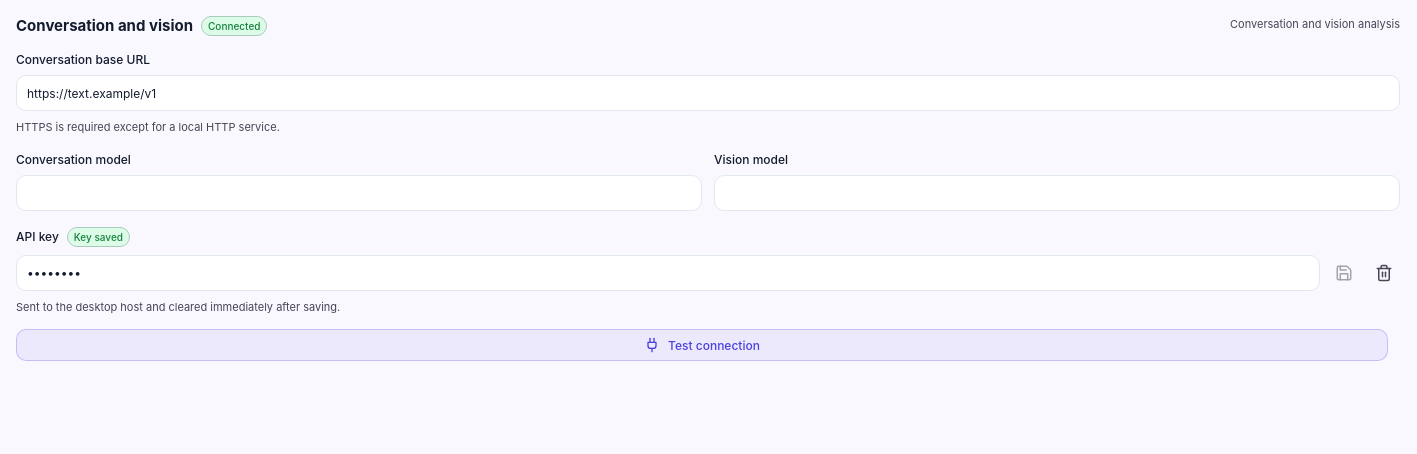
explains when the conversation test was blocked locally by a missing key
Click the button "Test connection": (702, 345) [16,329,1388,361]
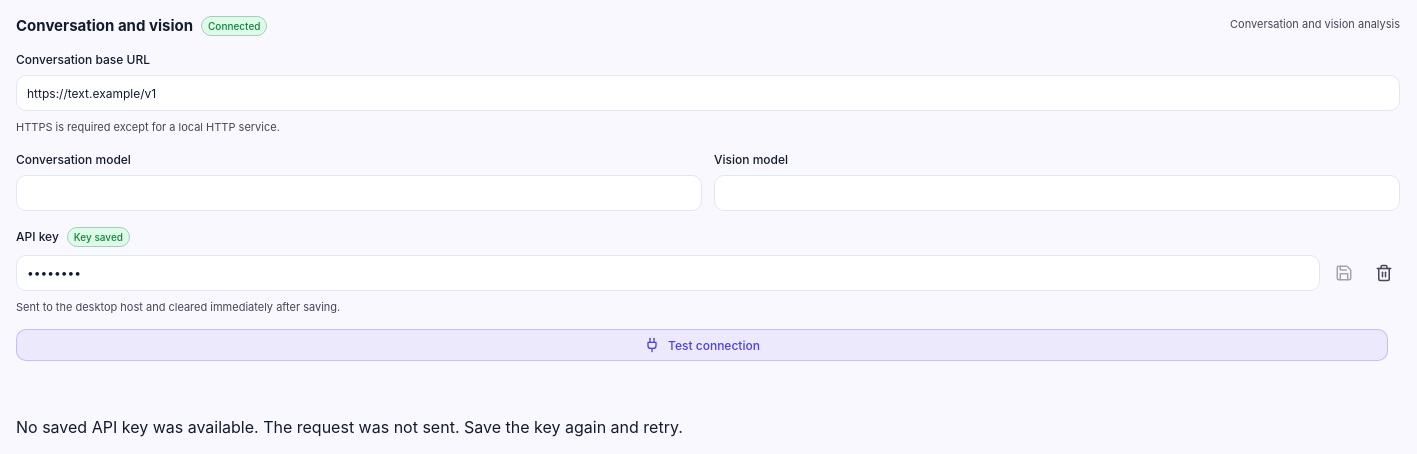
Expected: the message shows "No saved API key was available. The request was not sent", [16,417,683,437]
